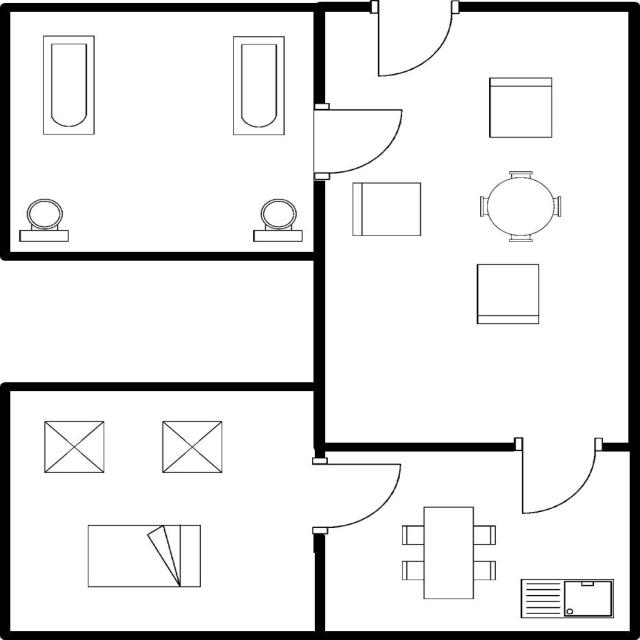bed: (80, 518, 207, 594)
coffee_table: (156, 415, 228, 479), (39, 416, 111, 478)
dining_table: (394, 502, 499, 604)
large_sink: (247, 194, 308, 246), (15, 196, 74, 246)
round_table: (473, 166, 568, 246)
sink: (514, 574, 618, 622)
small_sofa: (343, 176, 428, 241), (468, 260, 550, 327), (482, 71, 558, 142)
tub: (36, 30, 100, 138), (227, 30, 290, 139)
